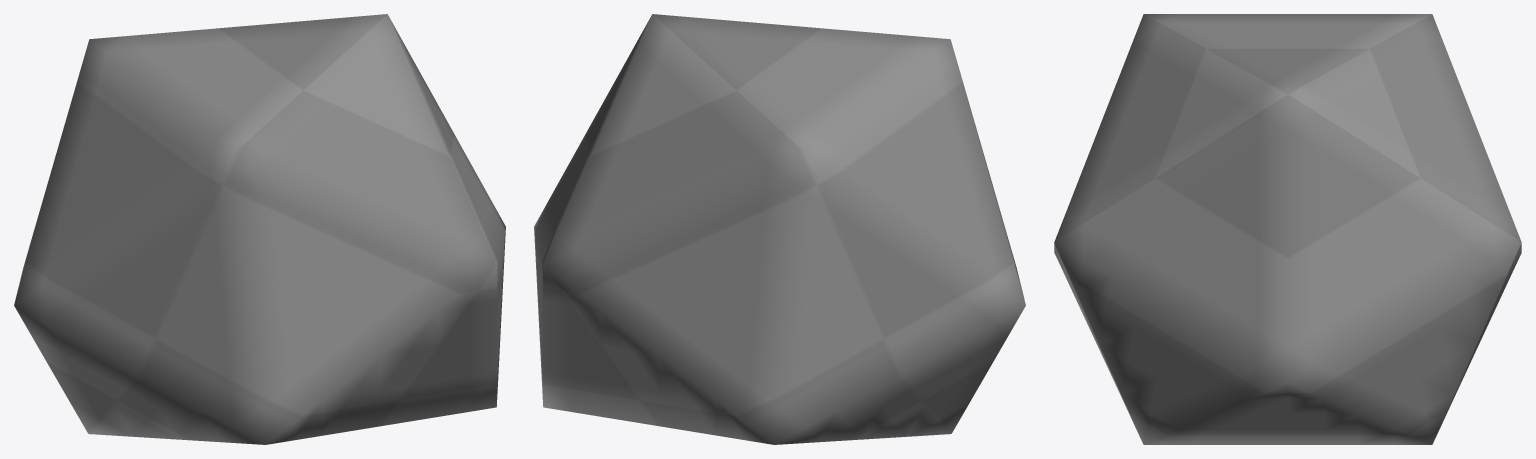
Rendered from rock1_1008.FBX.
3 views of the same model, side by side, from view 1: azimuth 30°, elevation 25°; view 2: azimuth 150°, elevation 25°; view 3: azimuth 270°, elevation 25° (orthographic). The views are drawn at different scales.
Parts seen in each view (by area): view 1: rock1; view 2: rock1; view 3: rock1.
Boxes of the visible parts, box(x1,y1,x2,y2) form: rock1: box(14, 14, 505, 444); rock1: box(534, 14, 1025, 444); rock1: box(1054, 14, 1521, 444).
Bounding box in the file's own units: 121 × 104 × 81.85.
